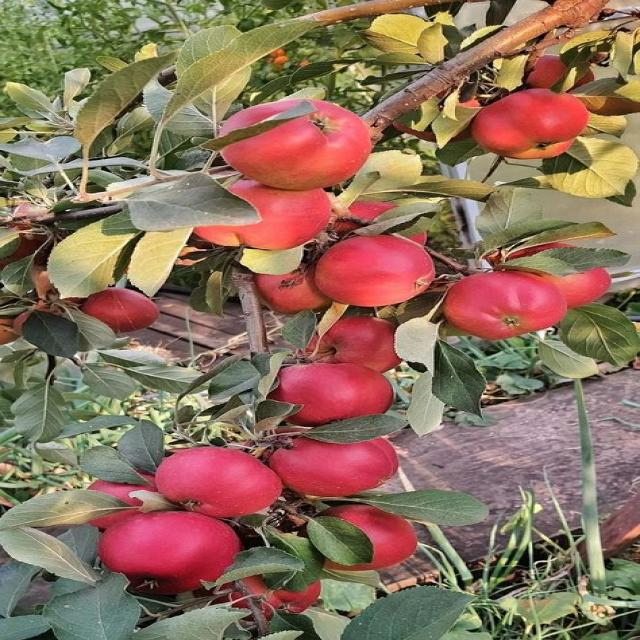Tao: (263, 499, 465, 570), (215, 97, 372, 188), (202, 170, 364, 253), (94, 508, 240, 588), (302, 232, 444, 312), (258, 358, 425, 422), (150, 444, 282, 518), (265, 431, 398, 499), (439, 270, 567, 339), (470, 88, 589, 158), (59, 452, 174, 524), (202, 559, 338, 618), (207, 258, 335, 318), (294, 313, 431, 364), (74, 294, 178, 342), (520, 52, 597, 92)
